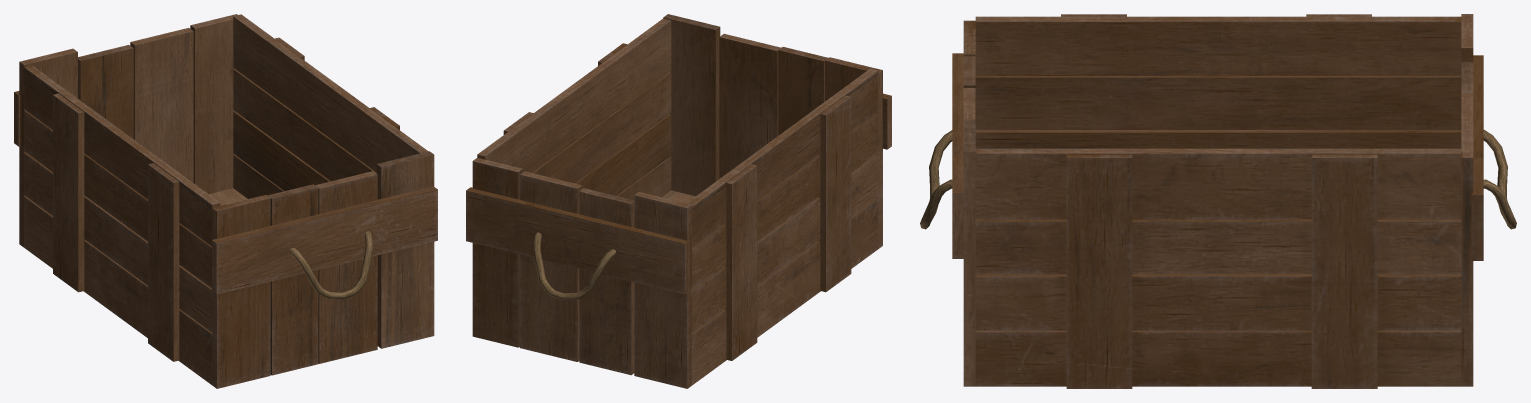
The picture shows the model from 3 angles, left to right: view 1: azimuth 30°, elevation 25°; view 2: azimuth 150°, elevation 25°; view 3: azimuth 270°, elevation 25°; orthographic projection. The views are drawn at different scales.
Visible parts, largest first — view 1: SM_Box; view 2: SM_Box; view 3: SM_Box.
Part boxes in pixels (left/top/right/bottom): SM_Box: left=14, top=14, right=437, bottom=388; SM_Box: left=466, top=14, right=891, bottom=388; SM_Box: left=920, top=14, right=1516, bottom=388.
Bounding box in the file's own units: 56.09 × 98.33 × 42.85.
1 material, 1 textured.
